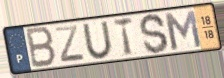B: (25, 25, 58, 70)
M: (162, 8, 203, 52)
S: (138, 12, 170, 56)
T: (112, 16, 135, 58)
U: (80, 19, 115, 60)
Z: (53, 24, 87, 64)
